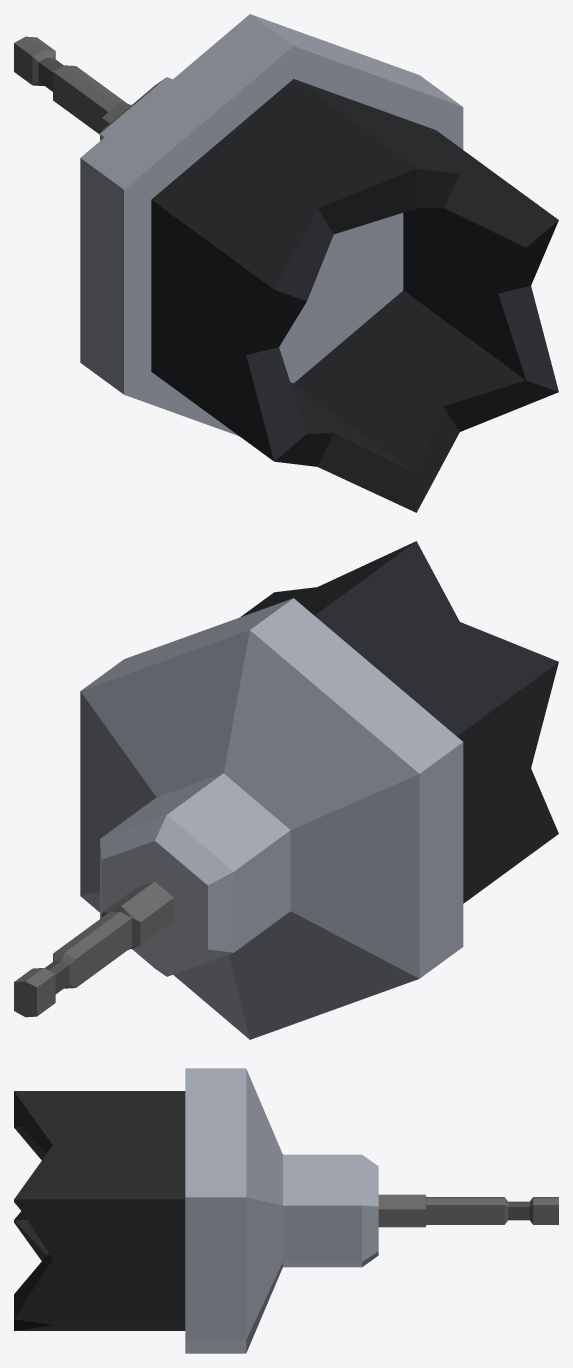
File: SM_Prop_Drill_Bit_02.fbx
3 views of the same model, one above another, from view 1: azimuth 30°, elevation 25°; view 2: azimuth 150°, elevation 25°; view 3: azimuth 270°, elevation 25° (orthographic). The views are drawn at different scales.
Parts seen in each view (by area): view 1: SM_Prop_Drill_Bit_02; view 2: SM_Prop_Drill_Bit_02; view 3: SM_Prop_Drill_Bit_02.
Part boxes in pixels (<box>): SM_Prop_Drill_Bit_02: <box>14,14,558,512</box>; SM_Prop_Drill_Bit_02: <box>14,541,558,1039</box>; SM_Prop_Drill_Bit_02: <box>14,1068,558,1353</box>.
Size of the model in its own units: 9.51 by 10.98 by 18.99.
